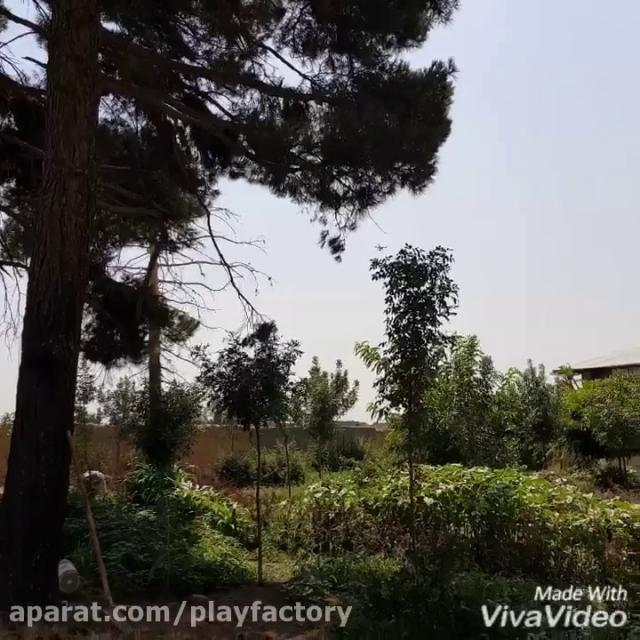drone: (370, 236, 390, 256)
